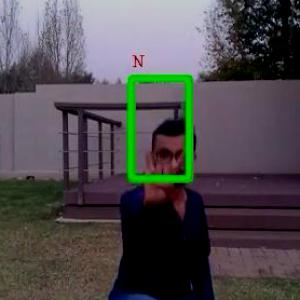takeoff-hand: (137, 148, 187, 205)
